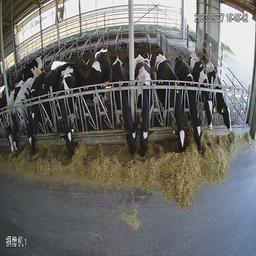cow: (153, 51, 187, 162), (22, 51, 54, 157), (77, 31, 111, 129), (110, 50, 138, 163), (176, 52, 205, 158), (53, 55, 79, 160), (189, 52, 217, 142), (5, 71, 32, 157), (134, 49, 155, 159), (207, 56, 235, 138)
